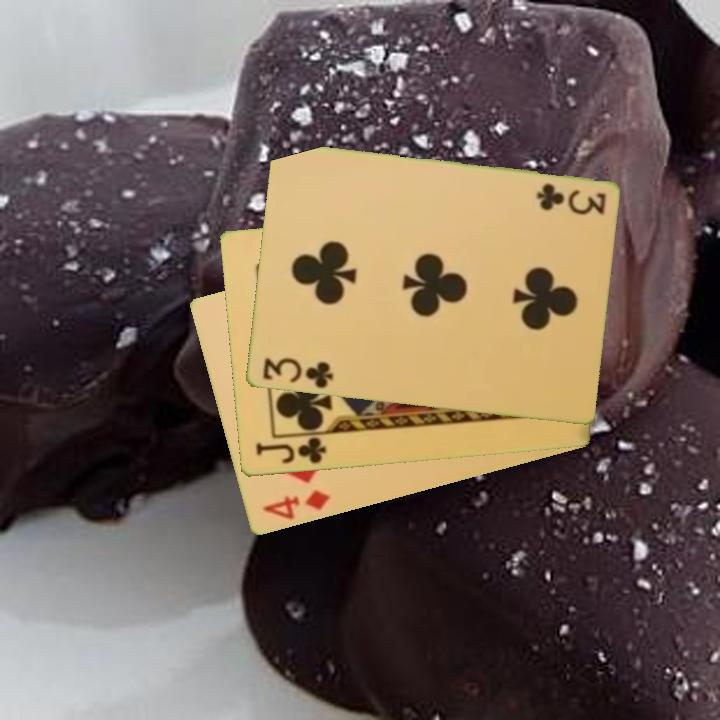3c: (258, 354, 336, 392), (532, 180, 609, 217)
4d: (258, 486, 333, 523)
Jc: (251, 434, 329, 467)
